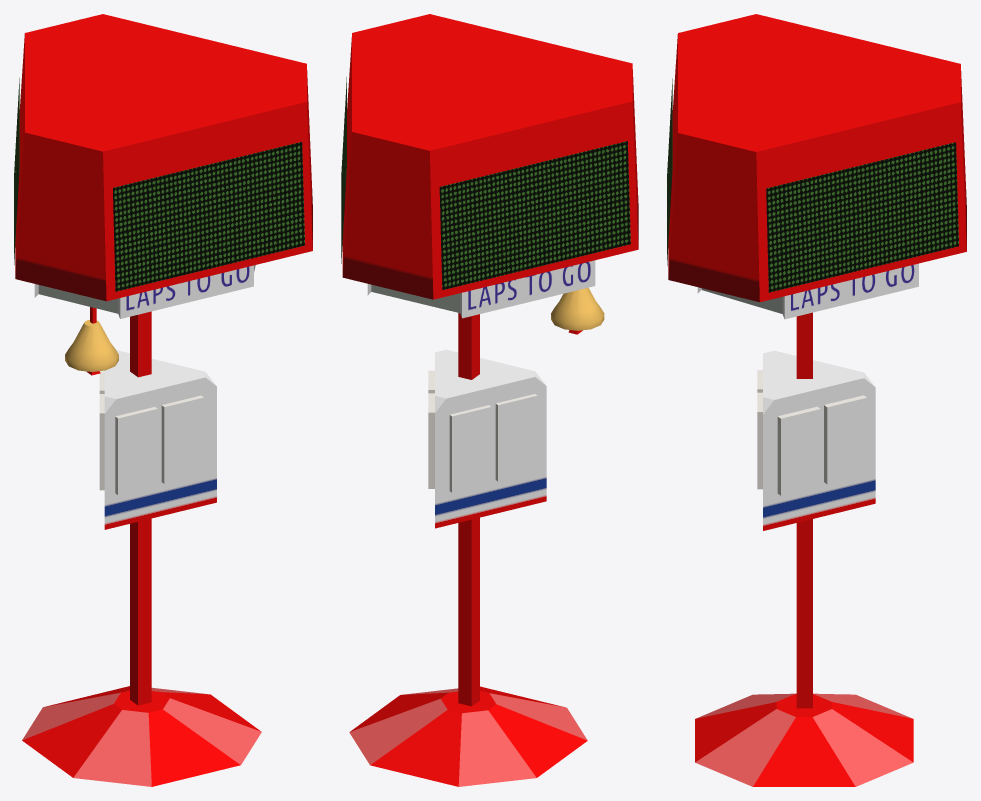
Rendered from Laps_to_go.FBX.
The picture shows the model from 3 angles, left to right: view 1: azimuth 30°, elevation 25°; view 2: azimuth 150°, elevation 25°; view 3: azimuth 270°, elevation 25°; orthographic projection.
Parts seen in each view (by area): view 1: Laps_to_go; view 2: Laps_to_go; view 3: Laps_to_go.
Boxes of the visible parts, x1,y1,x2,y2 form: Laps_to_go: (14, 14, 312, 786); Laps_to_go: (341, 14, 638, 786); Laps_to_go: (667, 14, 966, 786).
Bounding box in the file's own units: 9.61 × 20.22 × 8.35.
